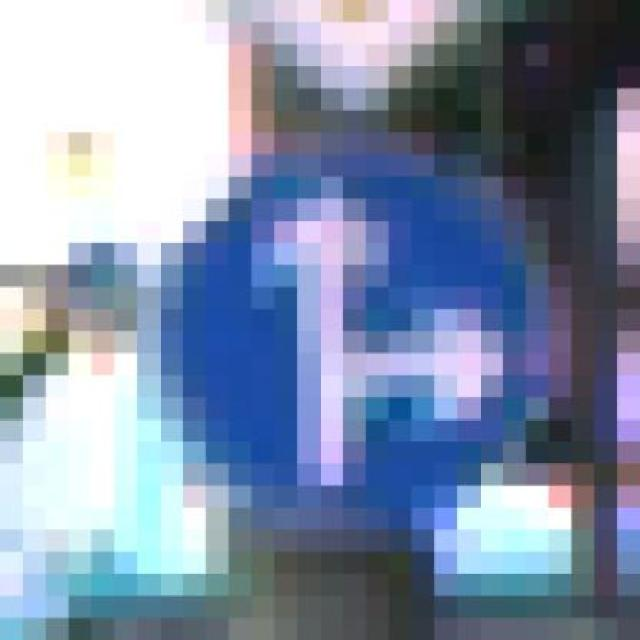Go Straight or Turn Right: (115, 88, 594, 530)
